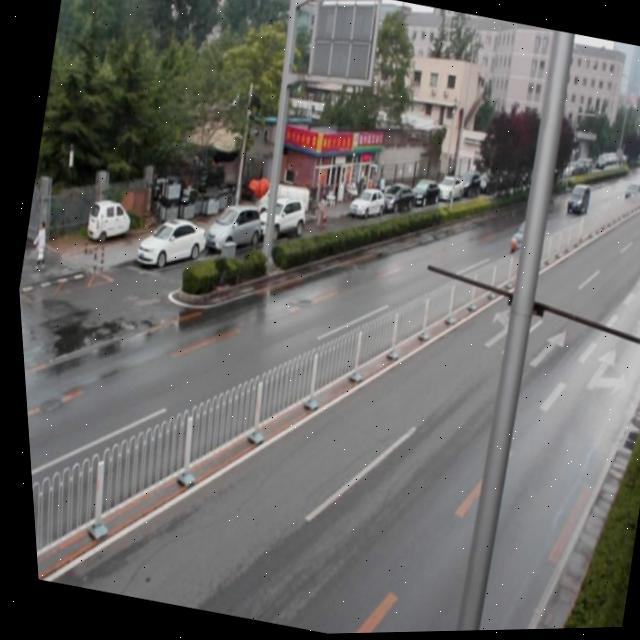car: (500, 217, 546, 260)
